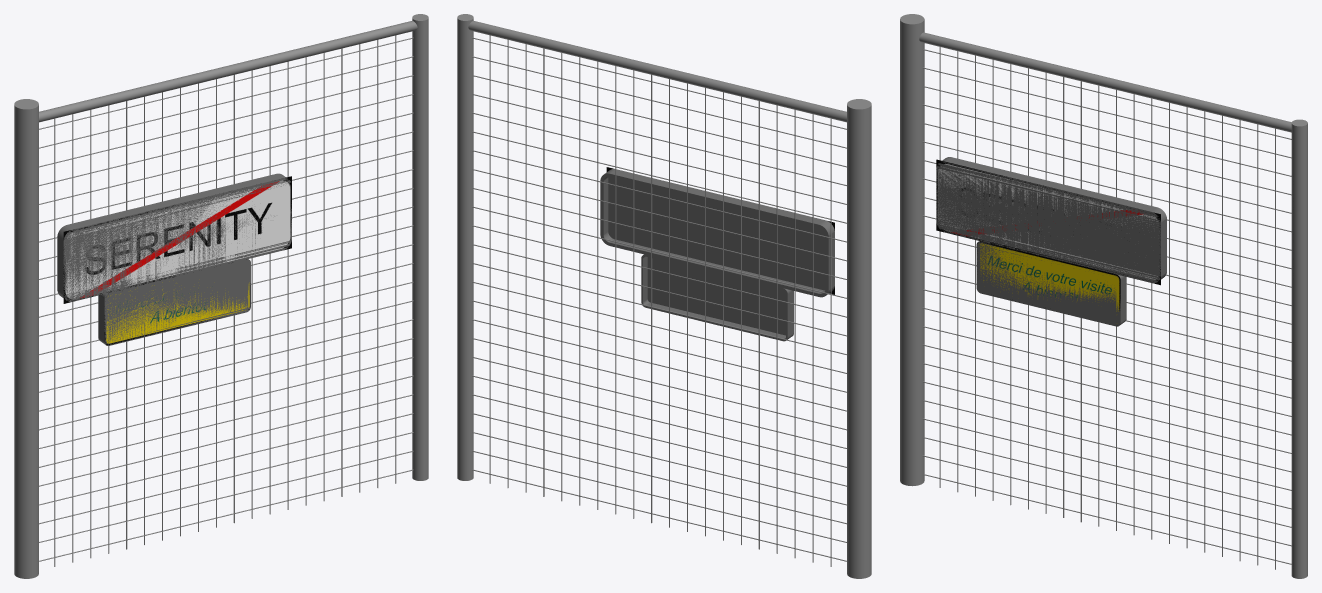
File: grilleleave.dae
3 renders of one model, left to right at view 1: azimuth 30°, elevation 25°; view 2: azimuth 150°, elevation 25°; view 3: azimuth 330°, elevation 25°, orthographic.
Parts seen in each view (by area): view 1: grillageDoor (×3), leavetownsignal (×2), image_1, grillagepart (×17), visite, visitsignal, image_0; view 2: grillageDoor (×3), leavetownsignal (×2), grillagepart (×24), visitsignal (×2); view 3: grillageDoor (×3), leavetownsignal (×2), grillagepart (×17), image_0, visitsignal, image_1, visite.
Boxes of the visible parts, <box> form: grillageDoor (×3): <box>14,14,428,578</box>; leavetownsignal (×2): <box>57,173,291,301</box>; image_1: <box>63,176,291,303</box>; grillagepart (×17): <box>39,37,413,561</box>; visite: <box>104,260,250,345</box>; visitsignal: <box>98,259,250,345</box>; image_0: <box>104,282,250,345</box>; grillageDoor (×3): <box>457,14,871,578</box>; leavetownsignal (×2): <box>600,169,834,297</box>; grillagepart (×24): <box>472,37,846,561</box>; visitsignal (×2): <box>641,254,793,341</box>; grillageDoor (×3): <box>900,14,1307,578</box>; leavetownsignal (×2): <box>936,157,1166,283</box>; grillagepart (×17): <box>922,49,1291,564</box>; image_0: <box>976,241,1120,325</box>; visitsignal: <box>976,241,1126,326</box>; image_1: <box>936,159,1160,285</box>; visite: <box>976,241,1120,326</box>.
Size of the model in its own units: 90.35 by 4.75 by 98.43.
4 materials, 2 textured.
